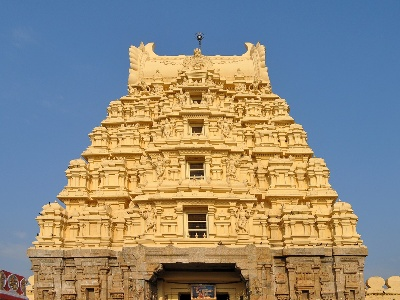gopura: (29, 47, 377, 258)
